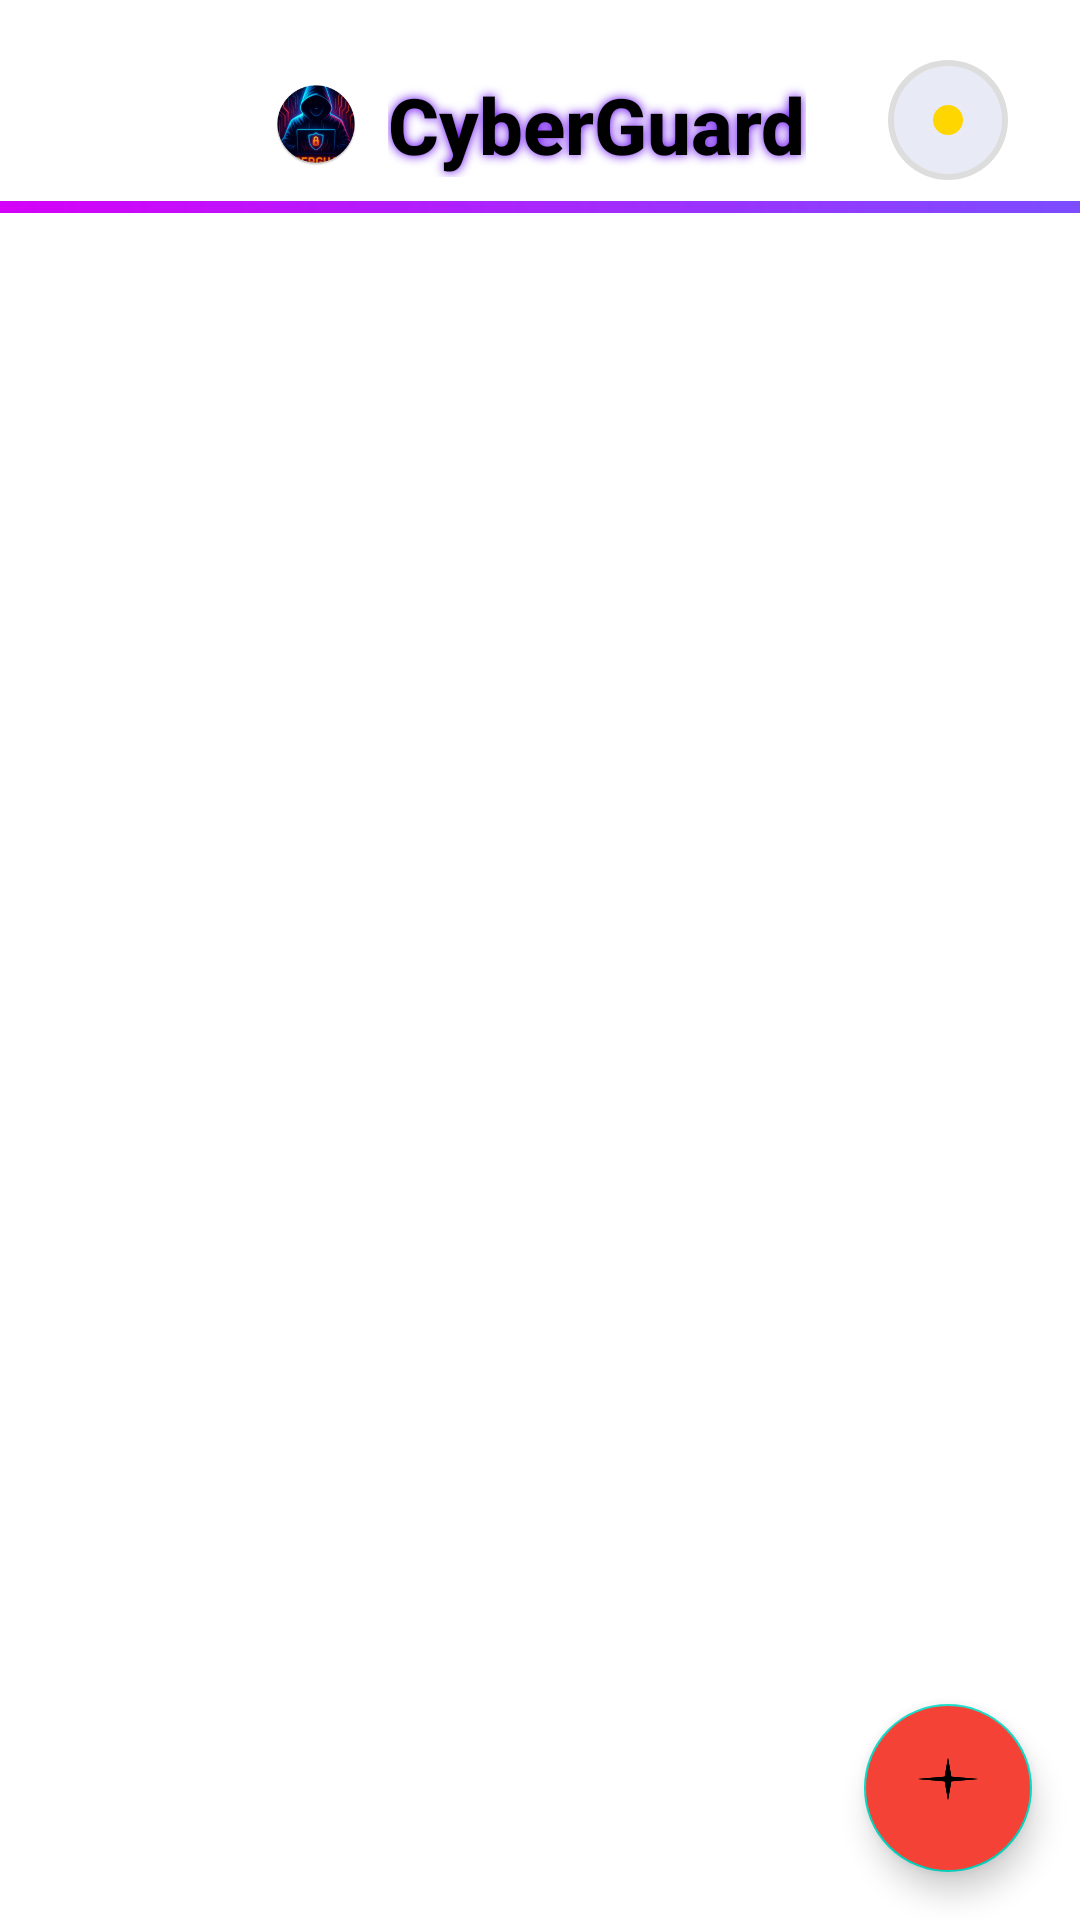

Locate icon controls on the screen. Image size 1080 x 1920, boxes as (x1, y1, x2, y2).
Theme Switch: (888, 60, 1008, 180)
